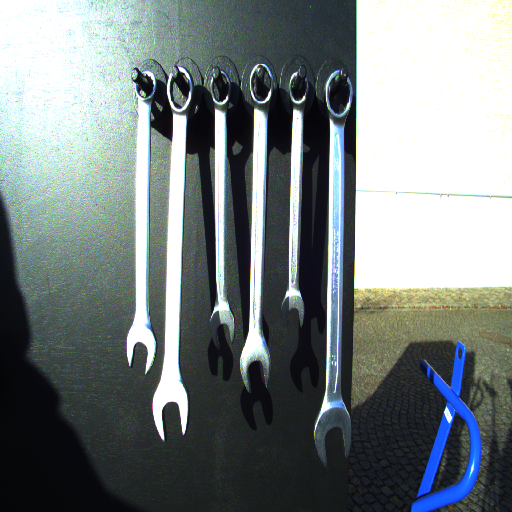bottom: (310, 399, 358, 469), (148, 383, 193, 442), (238, 336, 274, 395), (125, 325, 158, 376), (277, 292, 310, 333), (208, 306, 235, 350)
top: (323, 69, 355, 123), (164, 67, 195, 115), (245, 63, 274, 110), (207, 67, 235, 111), (286, 69, 312, 110), (131, 71, 160, 101)
